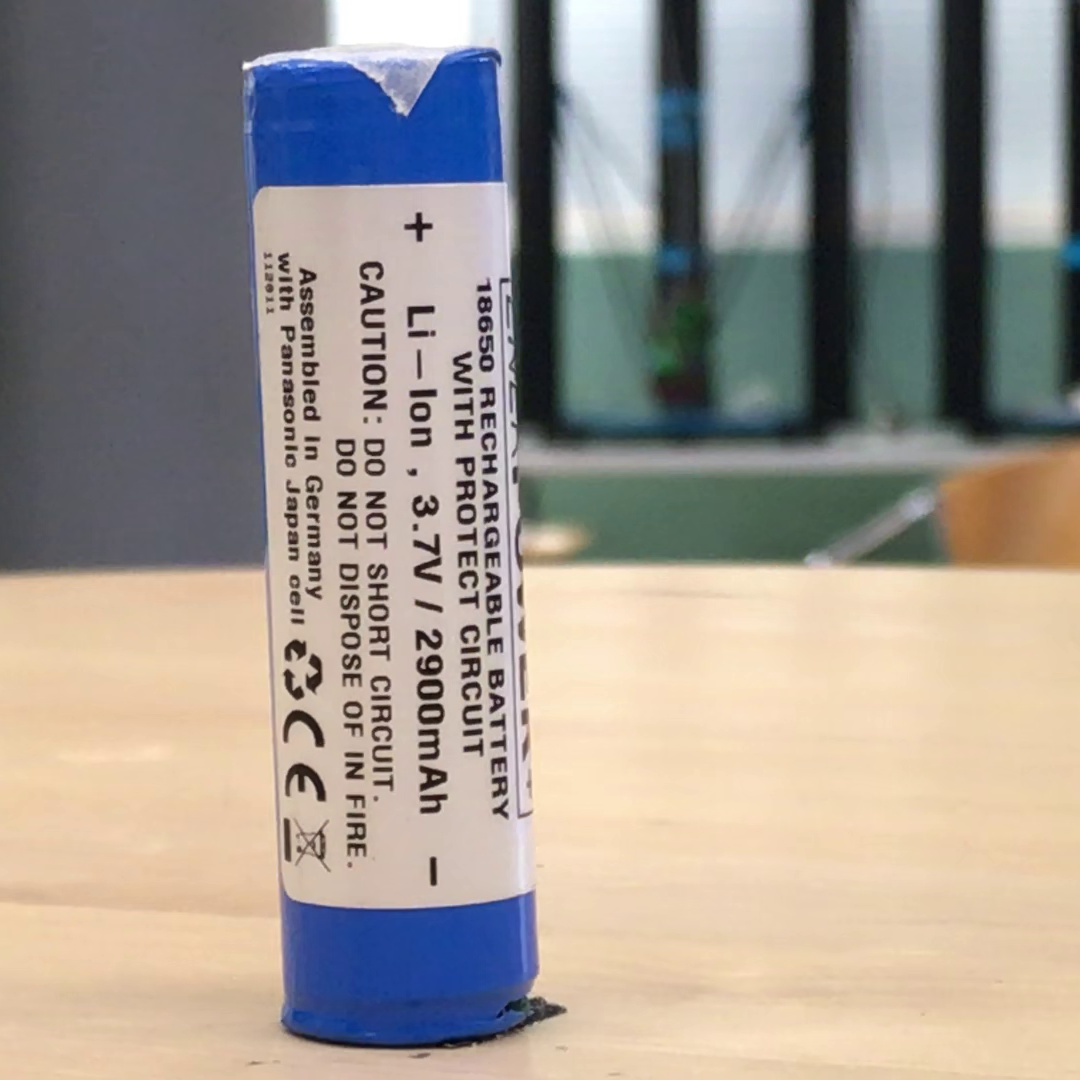keyword: (402, 485, 452, 588)
